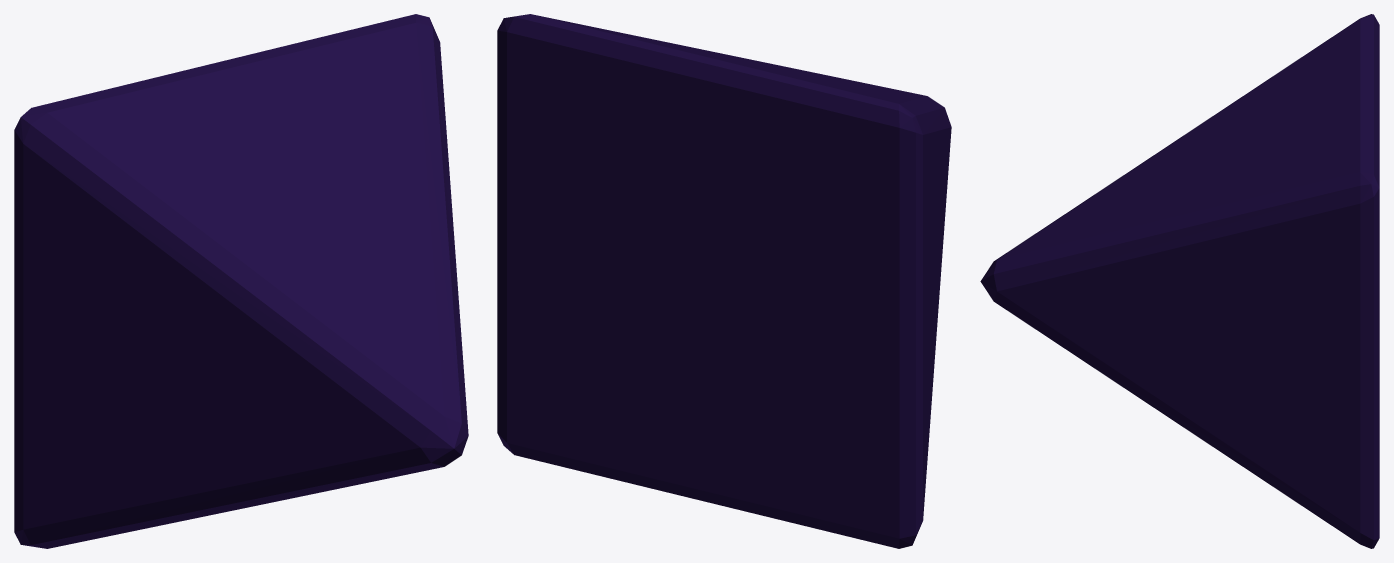
Rendered from PolyPyramid.glb.
3 renders of one model, left to right at view 1: azimuth 30°, elevation 25°; view 2: azimuth 150°, elevation 25°; view 3: azimuth 270°, elevation 25°, orthographic. The views are drawn at different scales.
Parts seen in each view (by area): view 1: PolyPyramid; view 2: PolyPyramid; view 3: PolyPyramid.
Boxes of the visible parts, left/top/right/bottom form: PolyPyramid: left=14, top=14, right=468, bottom=548; PolyPyramid: left=497, top=14, right=951, bottom=548; PolyPyramid: left=980, top=14, right=1379, bottom=548.
Size of the model in its own units: 8.39 by 8.39 by 8.12.
